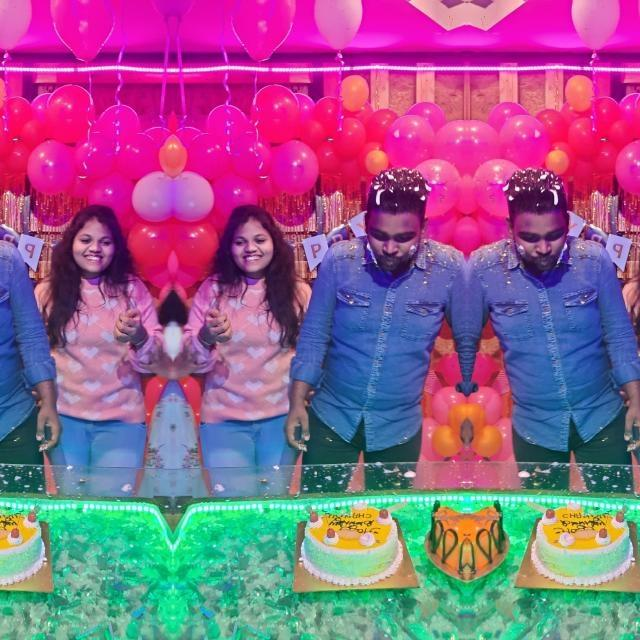person: (312, 164, 466, 482), (467, 164, 621, 482), (198, 199, 310, 446), (34, 199, 146, 446), (0, 164, 32, 481), (622, 199, 640, 446)
